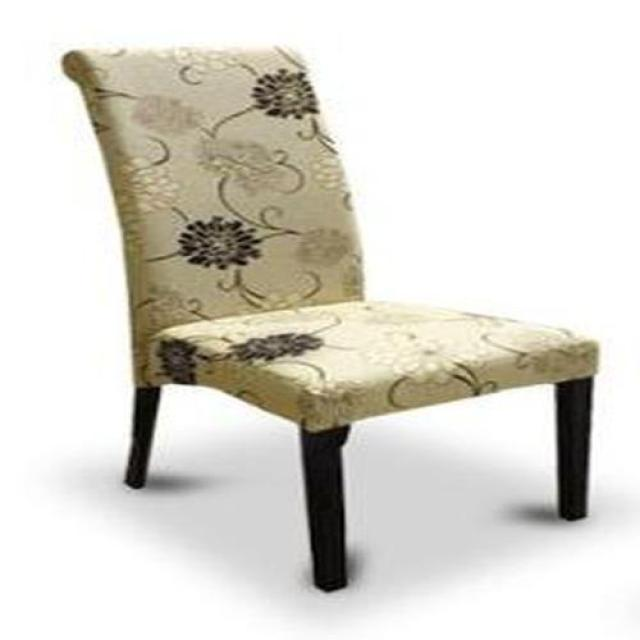chair: (61, 46, 600, 594)
